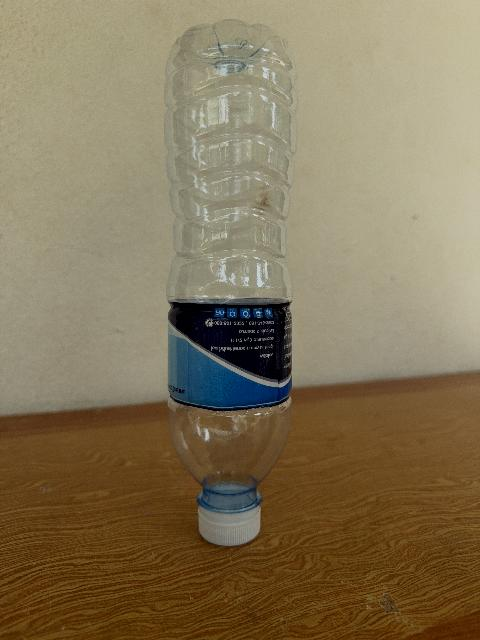bottle: (164, 20, 295, 545)
